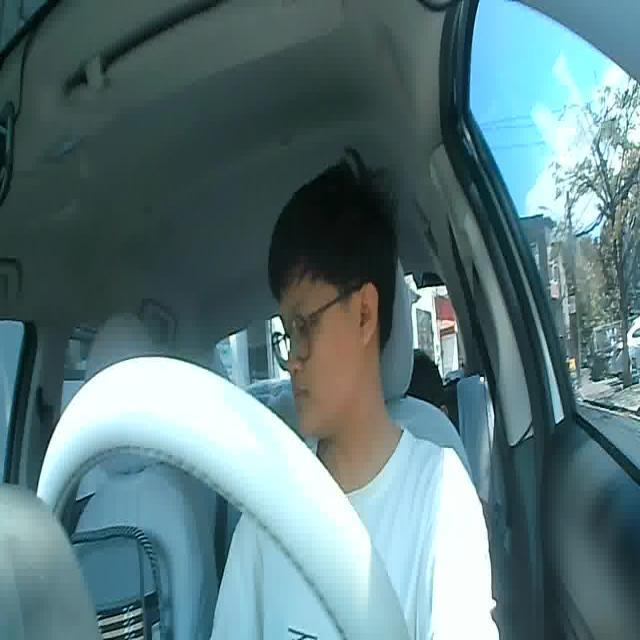Eye-Close: (292, 316, 318, 342)
Inattentive: (268, 158, 397, 438)
Normal: (290, 379, 308, 406)
